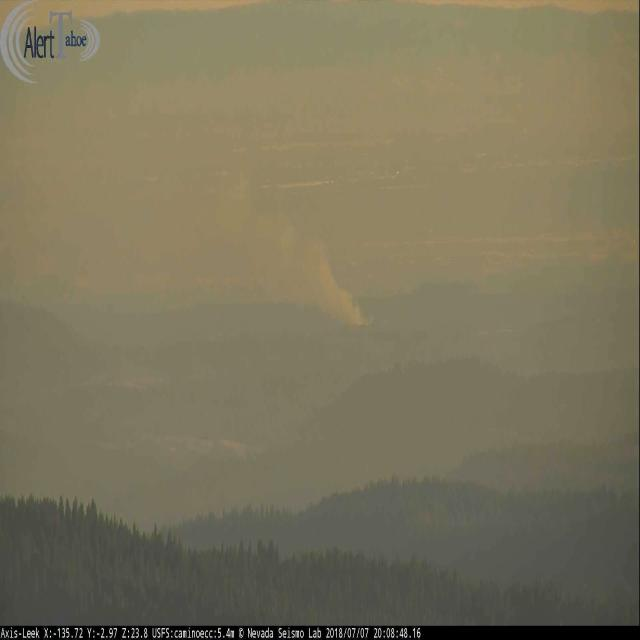smoke: (304, 237, 375, 326)
